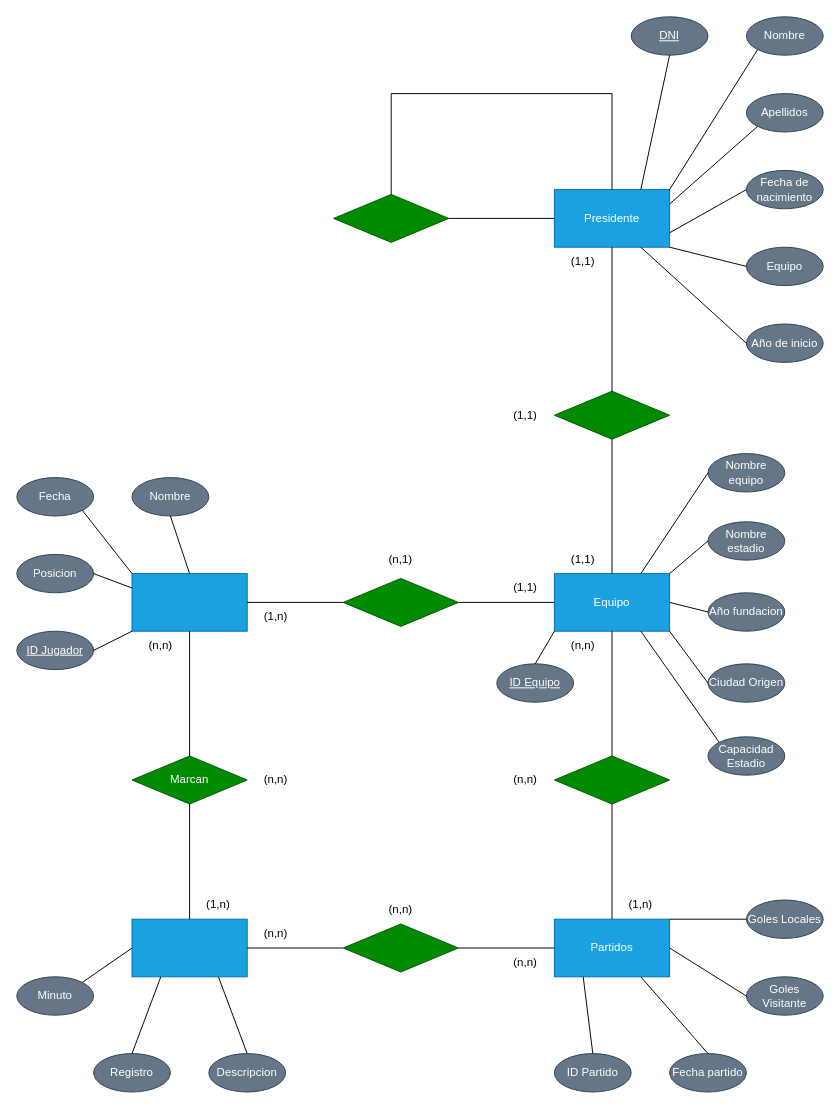
Some shapes in this 840 by 1109 pixel diagram are drawn without their labels. The box of each missing label's shape, as (x1, y1, x2, y2) in pixels:
Goles: (131, 918, 247, 977)
Juegan: (342, 577, 458, 626)
Jugadores: (131, 573, 247, 631)
Participan: (553, 755, 670, 804)
Personas: (333, 193, 449, 242)
Se marcan: (342, 923, 458, 972)
Tiene: (553, 390, 670, 439)
